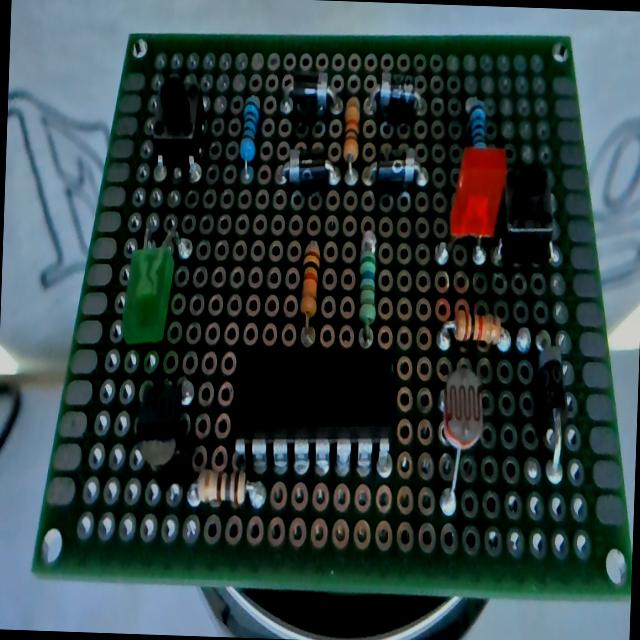IC: (226, 348, 398, 479)
cds: (436, 361, 487, 515)
diode: (532, 338, 568, 476), (280, 145, 338, 191), (368, 148, 428, 190), (287, 70, 335, 116), (370, 74, 422, 113)
led: (126, 210, 192, 344), (447, 144, 508, 243)
resistor: (436, 296, 507, 354), (355, 230, 379, 348), (191, 468, 259, 508), (298, 240, 320, 346), (236, 93, 258, 188), (340, 96, 360, 193), (466, 98, 488, 148)
switch: (150, 72, 208, 171), (500, 164, 556, 266)
transistor: (132, 380, 182, 472)
